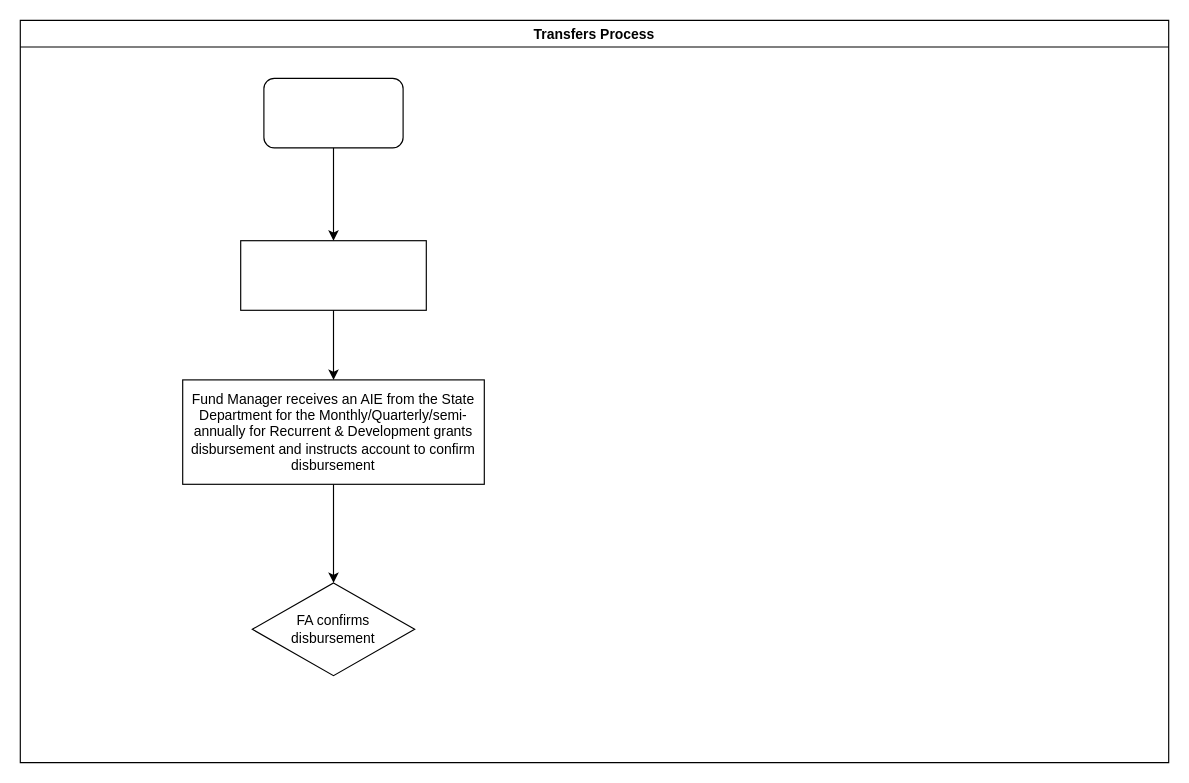
This 1189x783 diagram has some shape labels left out. Each missing label, with the centre of its shape:
"Fund Manager receives budget allocation from the Ministry" goes at [333,275].
"Start" goes at [333,112].
